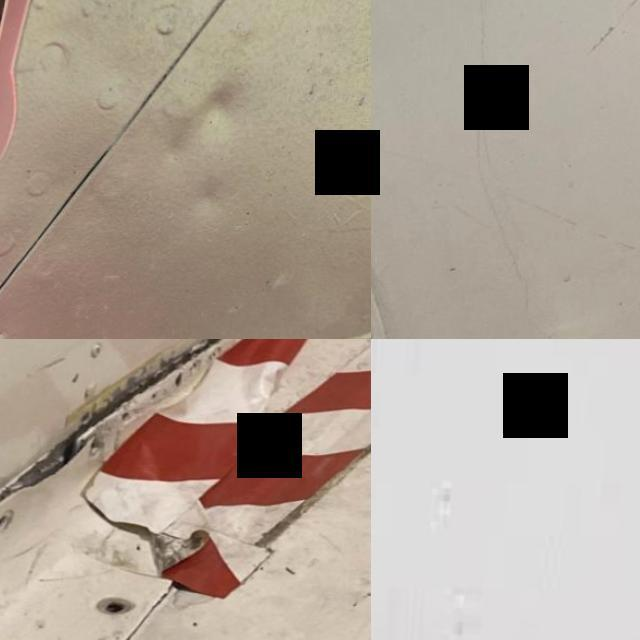Crack: (0, 339, 299, 502)
Dent: (143, 56, 269, 176)
Missing_Fastener: (102, 591, 140, 614)
